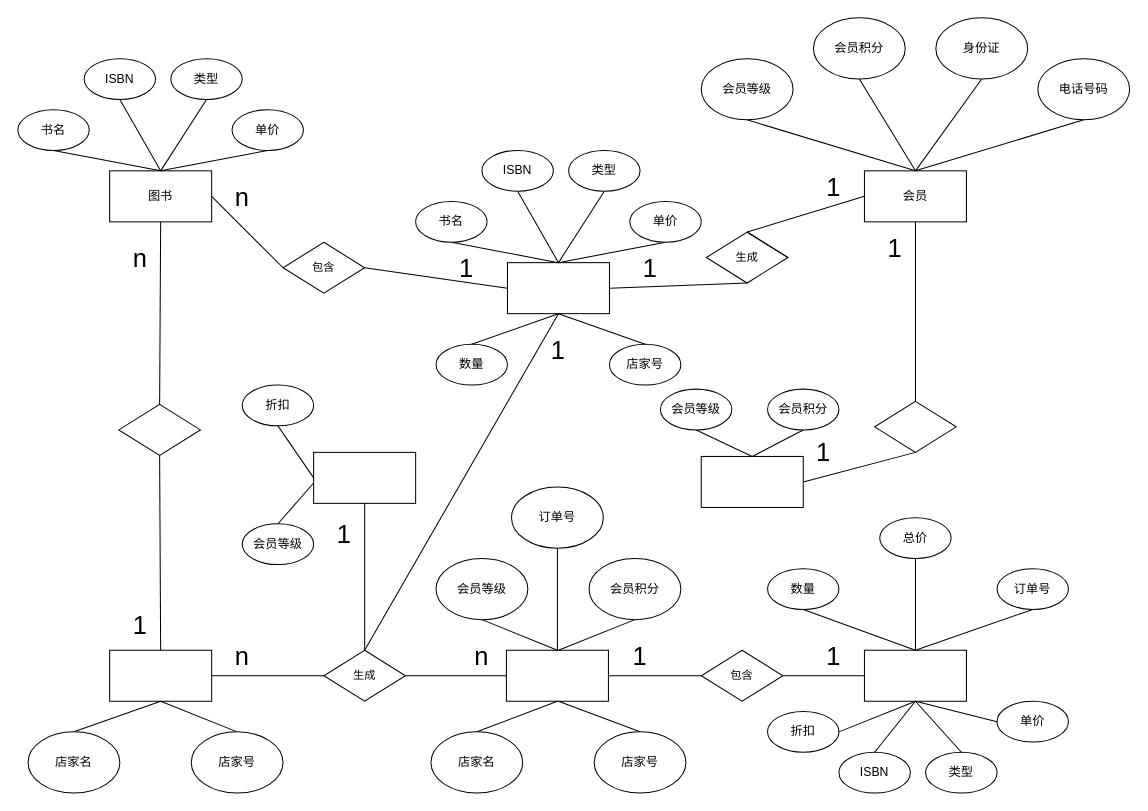
Image size: 1148x811. Some labels were removed from this diagram. The shapes that lost their labels are listed below. From the top down, each one's centre as x and y in pixels, then its label:
(x=557, y=288): 购物车
(x=159, y=429): 属于
(x=915, y=426): 遵守
(x=364, y=477): 折扣规则
(x=751, y=481): 升级规则
(x=160, y=675): 店家
(x=556, y=675): 图书订单
(x=914, y=675): 订单明细
